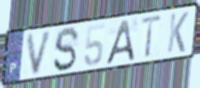5: (83, 21, 107, 68)
A: (104, 18, 136, 67)
K: (166, 10, 190, 55)
S: (52, 25, 81, 73)
T: (139, 13, 164, 60)
V: (25, 28, 55, 77)
